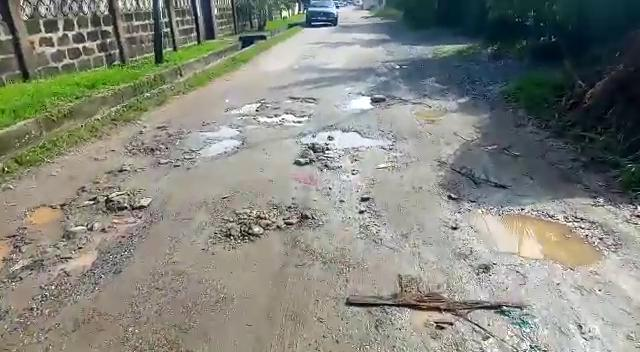pothole: (341, 294, 561, 352), (460, 202, 610, 269), (288, 125, 404, 158), (227, 99, 316, 125), (192, 138, 249, 158), (454, 93, 493, 114), (27, 204, 65, 225), (195, 124, 241, 140), (0, 235, 20, 267), (349, 94, 381, 111), (414, 106, 451, 120), (288, 96, 323, 105)
